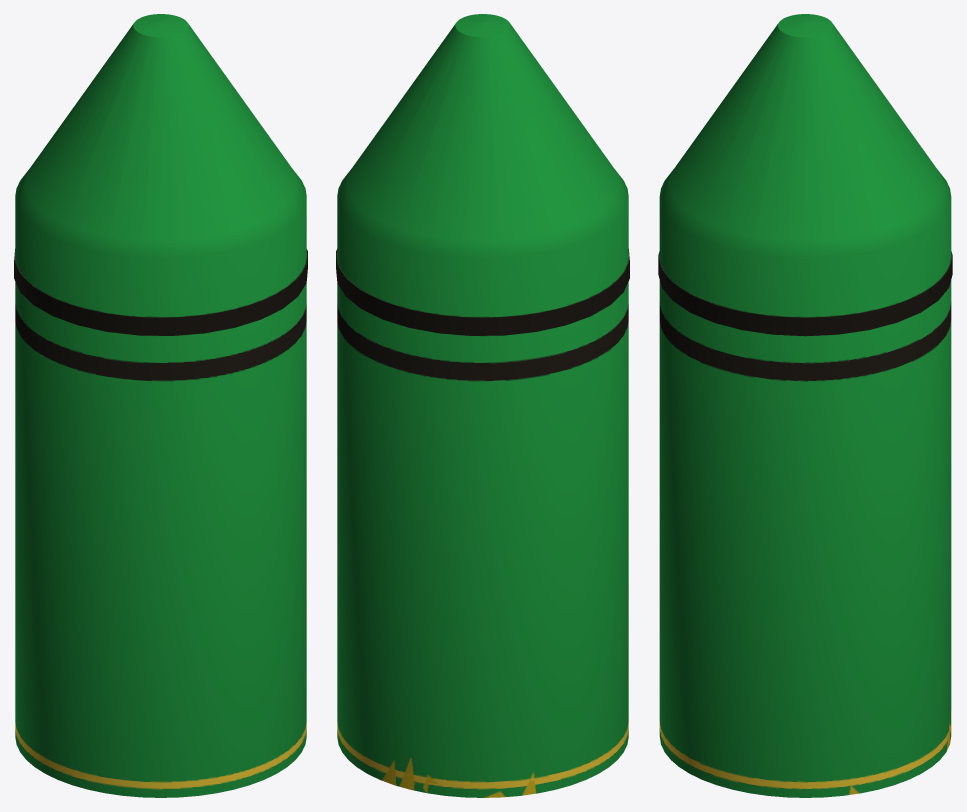
Rendered from 16-topper-back-right.fbx.
3 views of the same model, side by side, from view 1: azimuth 30°, elevation 25°; view 2: azimuth 150°, elevation 25°; view 3: azimuth 270°, elevation 25° (orthographic).
Parts seen in each view (by area): view 1: topper-back-right; view 2: topper-back-right; view 3: topper-back-right.
Part boxes in pixels (x1,y1,x2,y2): topper-back-right: (14, 14, 307, 797); topper-back-right: (336, 14, 629, 797); topper-back-right: (658, 14, 952, 797).
Size of the model in its own units: 2344 by 6270 by 2344.
Materials: 1 (1 with a texture image).
